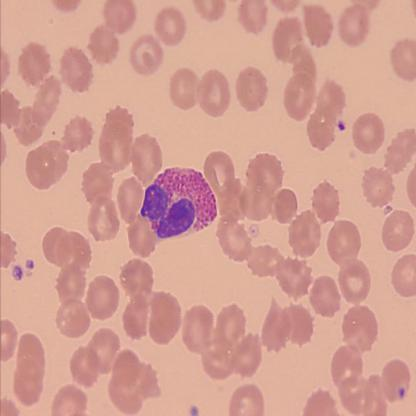Eosinophil: (139, 165, 218, 237)
